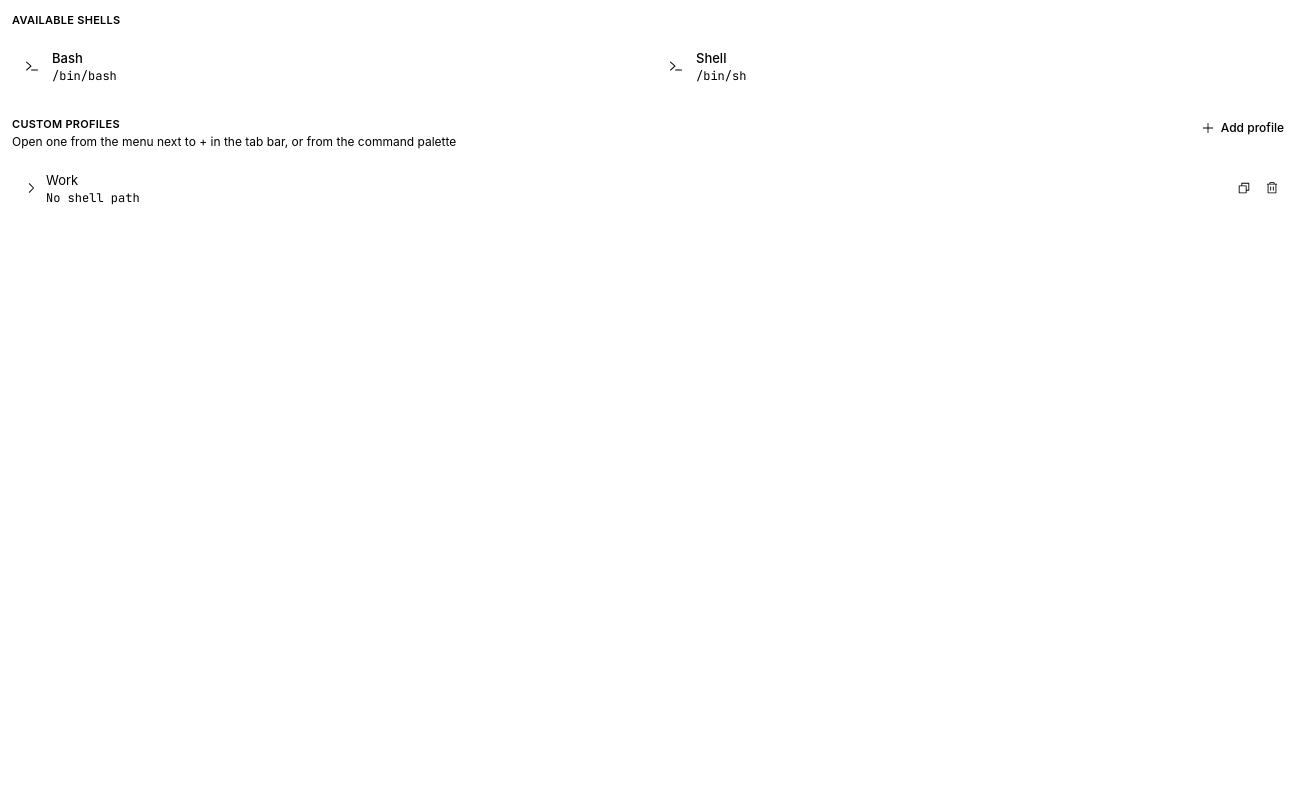
Test: ProfilesPanel › expands and collapses a profile from its header
The width and height of the screenshot is (1304, 812).
Step 1. Click the button "Work No shell path" → [62, 180], box 12,162 -> 1228,214
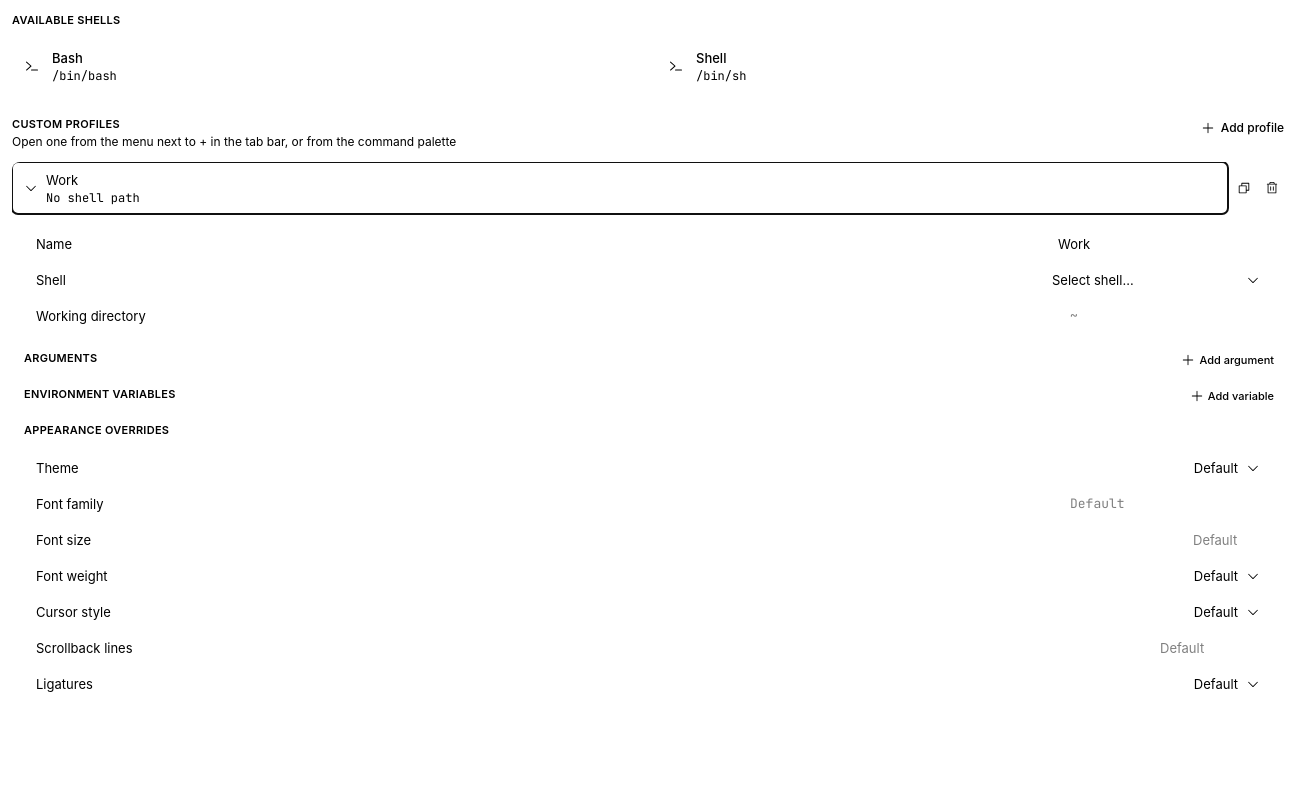
Expected: the field labelled "Name" is shown, 1050,234 -> 1268,254
Step 2. Click the button "Work No shell path" → [62, 180], box 12,162 -> 1228,214
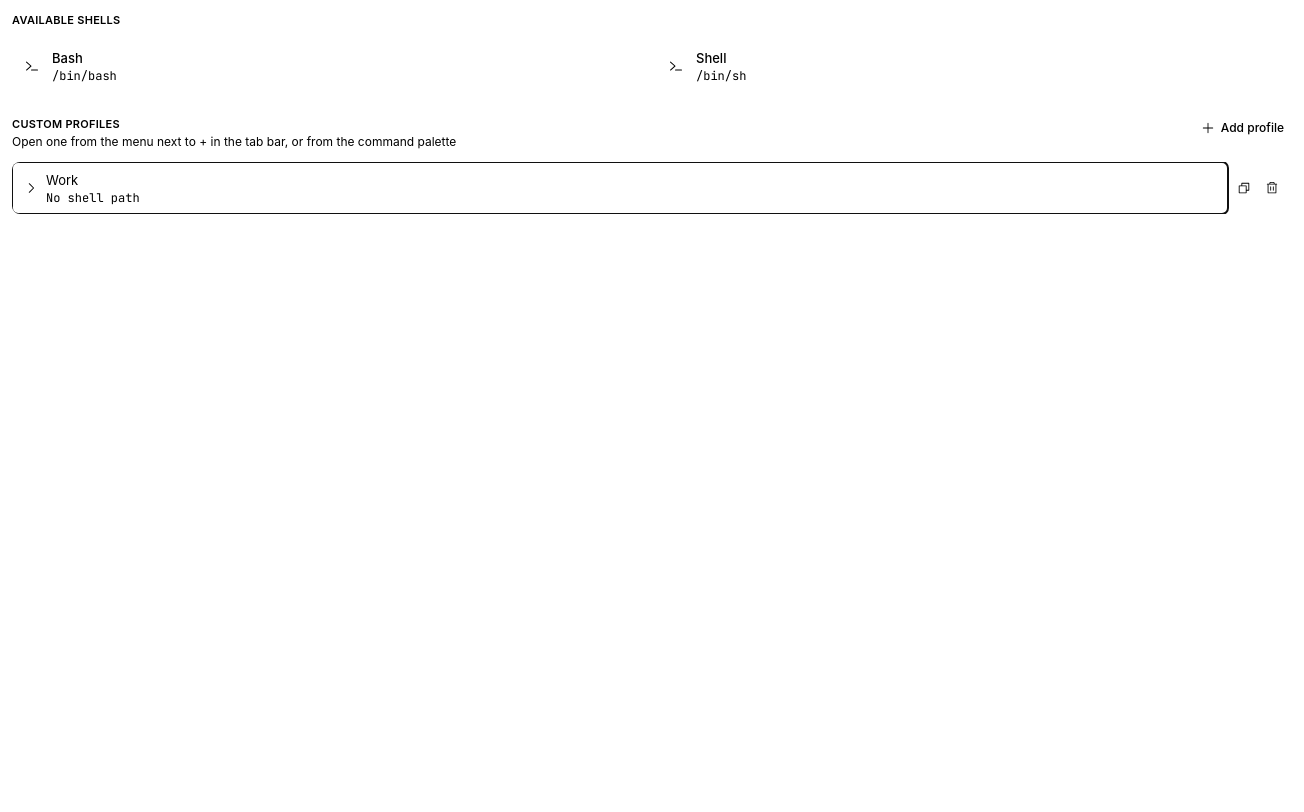
Expected: the label "Name" is gone
